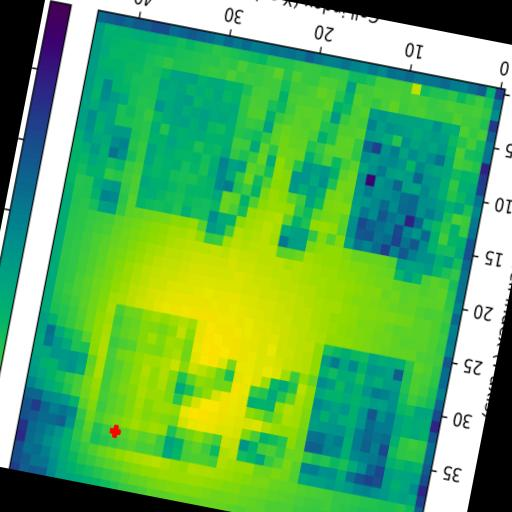Concrete: (89, 304, 197, 459)
Glass: (298, 345, 406, 500)
Metal: (136, 66, 242, 220)
Wood: (342, 108, 462, 264)
